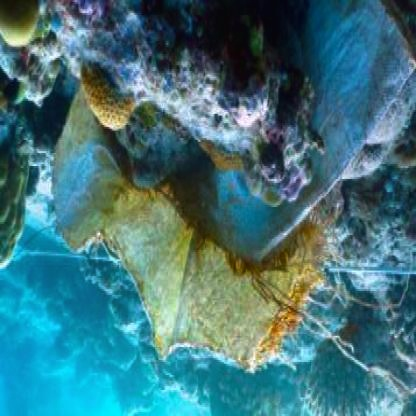plastic: (80, 119, 337, 382)
